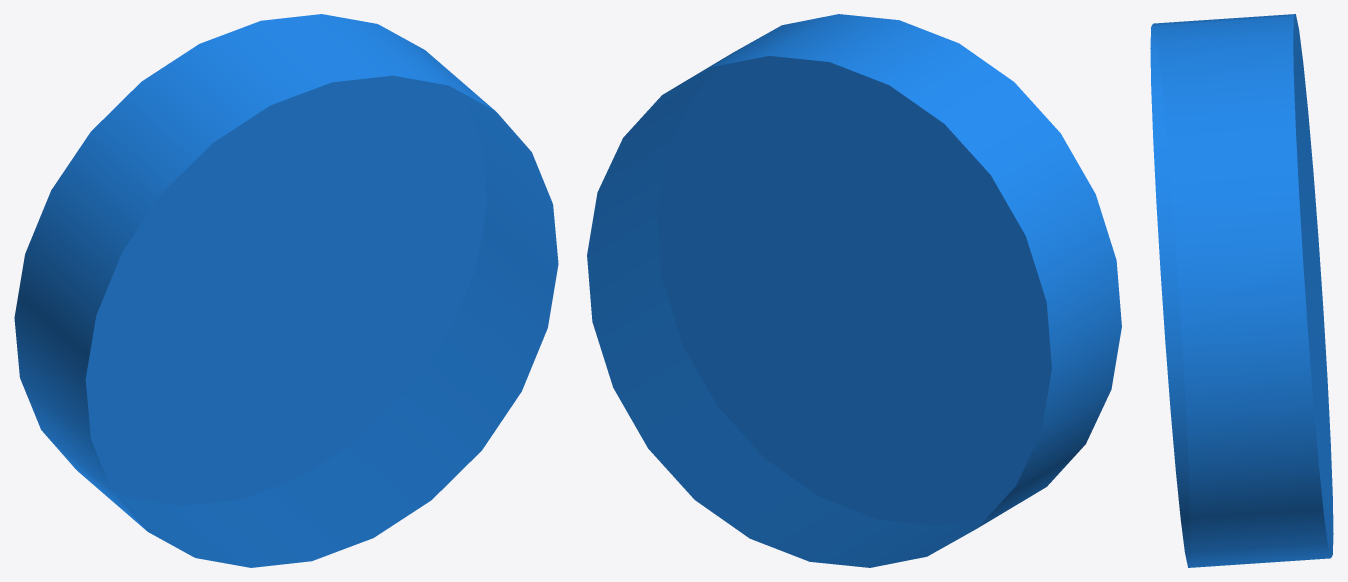
Rendered from Event_127732675_MET.fbx.
The picture shows the model from 3 angles, left to right: view 1: azimuth 30°, elevation 25°; view 2: azimuth 150°, elevation 25°; view 3: azimuth 270°, elevation 25°; orthographic projection.
Visible parts, largest first — view 1: Model; view 2: Model; view 3: Model.
Part boxes in pixels (box(x1,y1,x2,y2)): Model: box(14, 14, 558, 567); Model: box(587, 14, 1121, 567); Model: box(1150, 14, 1333, 567).
Size of the model in its own units: 0.04 by 0.0407 by 0.0134.
